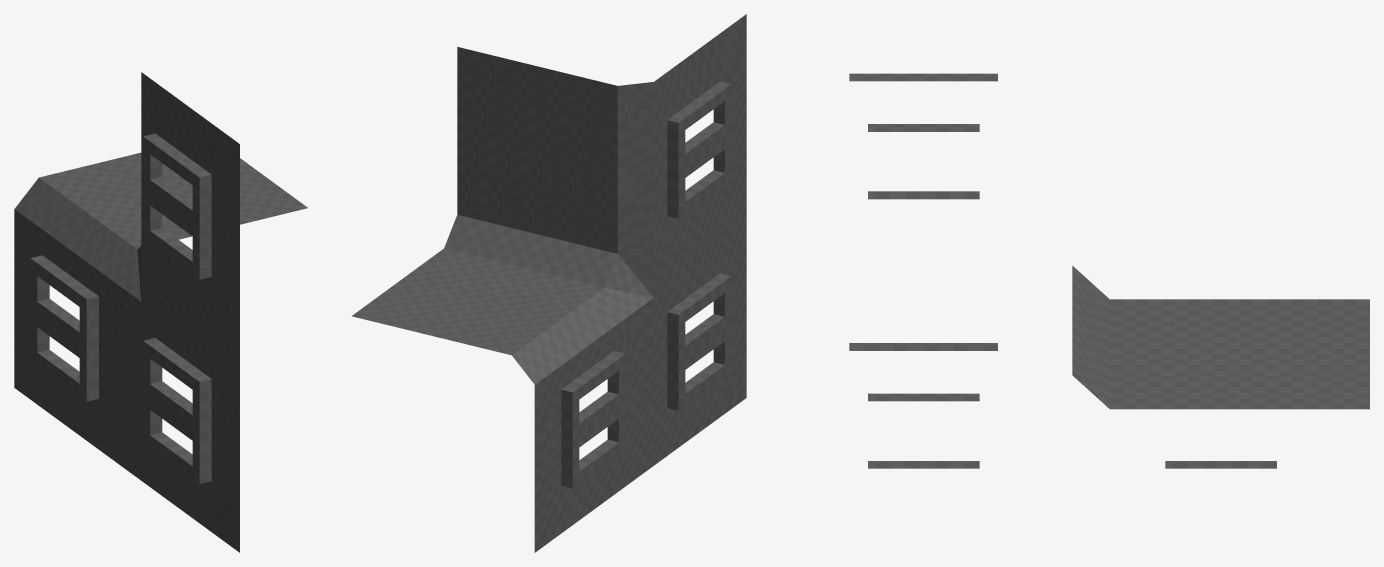
3 renders of one model, left to right at view 1: azimuth 30°, elevation 25°; view 2: azimuth 150°, elevation 25°; view 3: azimuth 270°, elevation 25°, orthographic. The views are drawn at different scales.
Parts seen in each view (by area): view 1: 3; view 2: 3; view 3: 3.
Part boxes in pixels (<box>): 3: <box>14,72,307,552</box>; 3: <box>352,14,746,552</box>; 3: <box>849,73,1369,468</box>.
Size of the model in its own units: 2.12 by 4 by 4.
2 materials, 2 textured.
